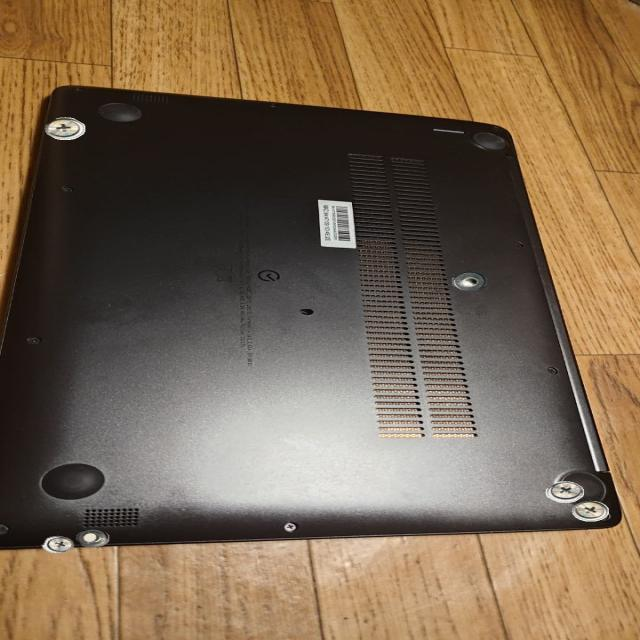lock: (44, 117, 85, 140), (545, 481, 584, 503), (572, 500, 609, 522), (41, 536, 73, 554)
missing_screw: (452, 271, 487, 291), (76, 528, 109, 548)
